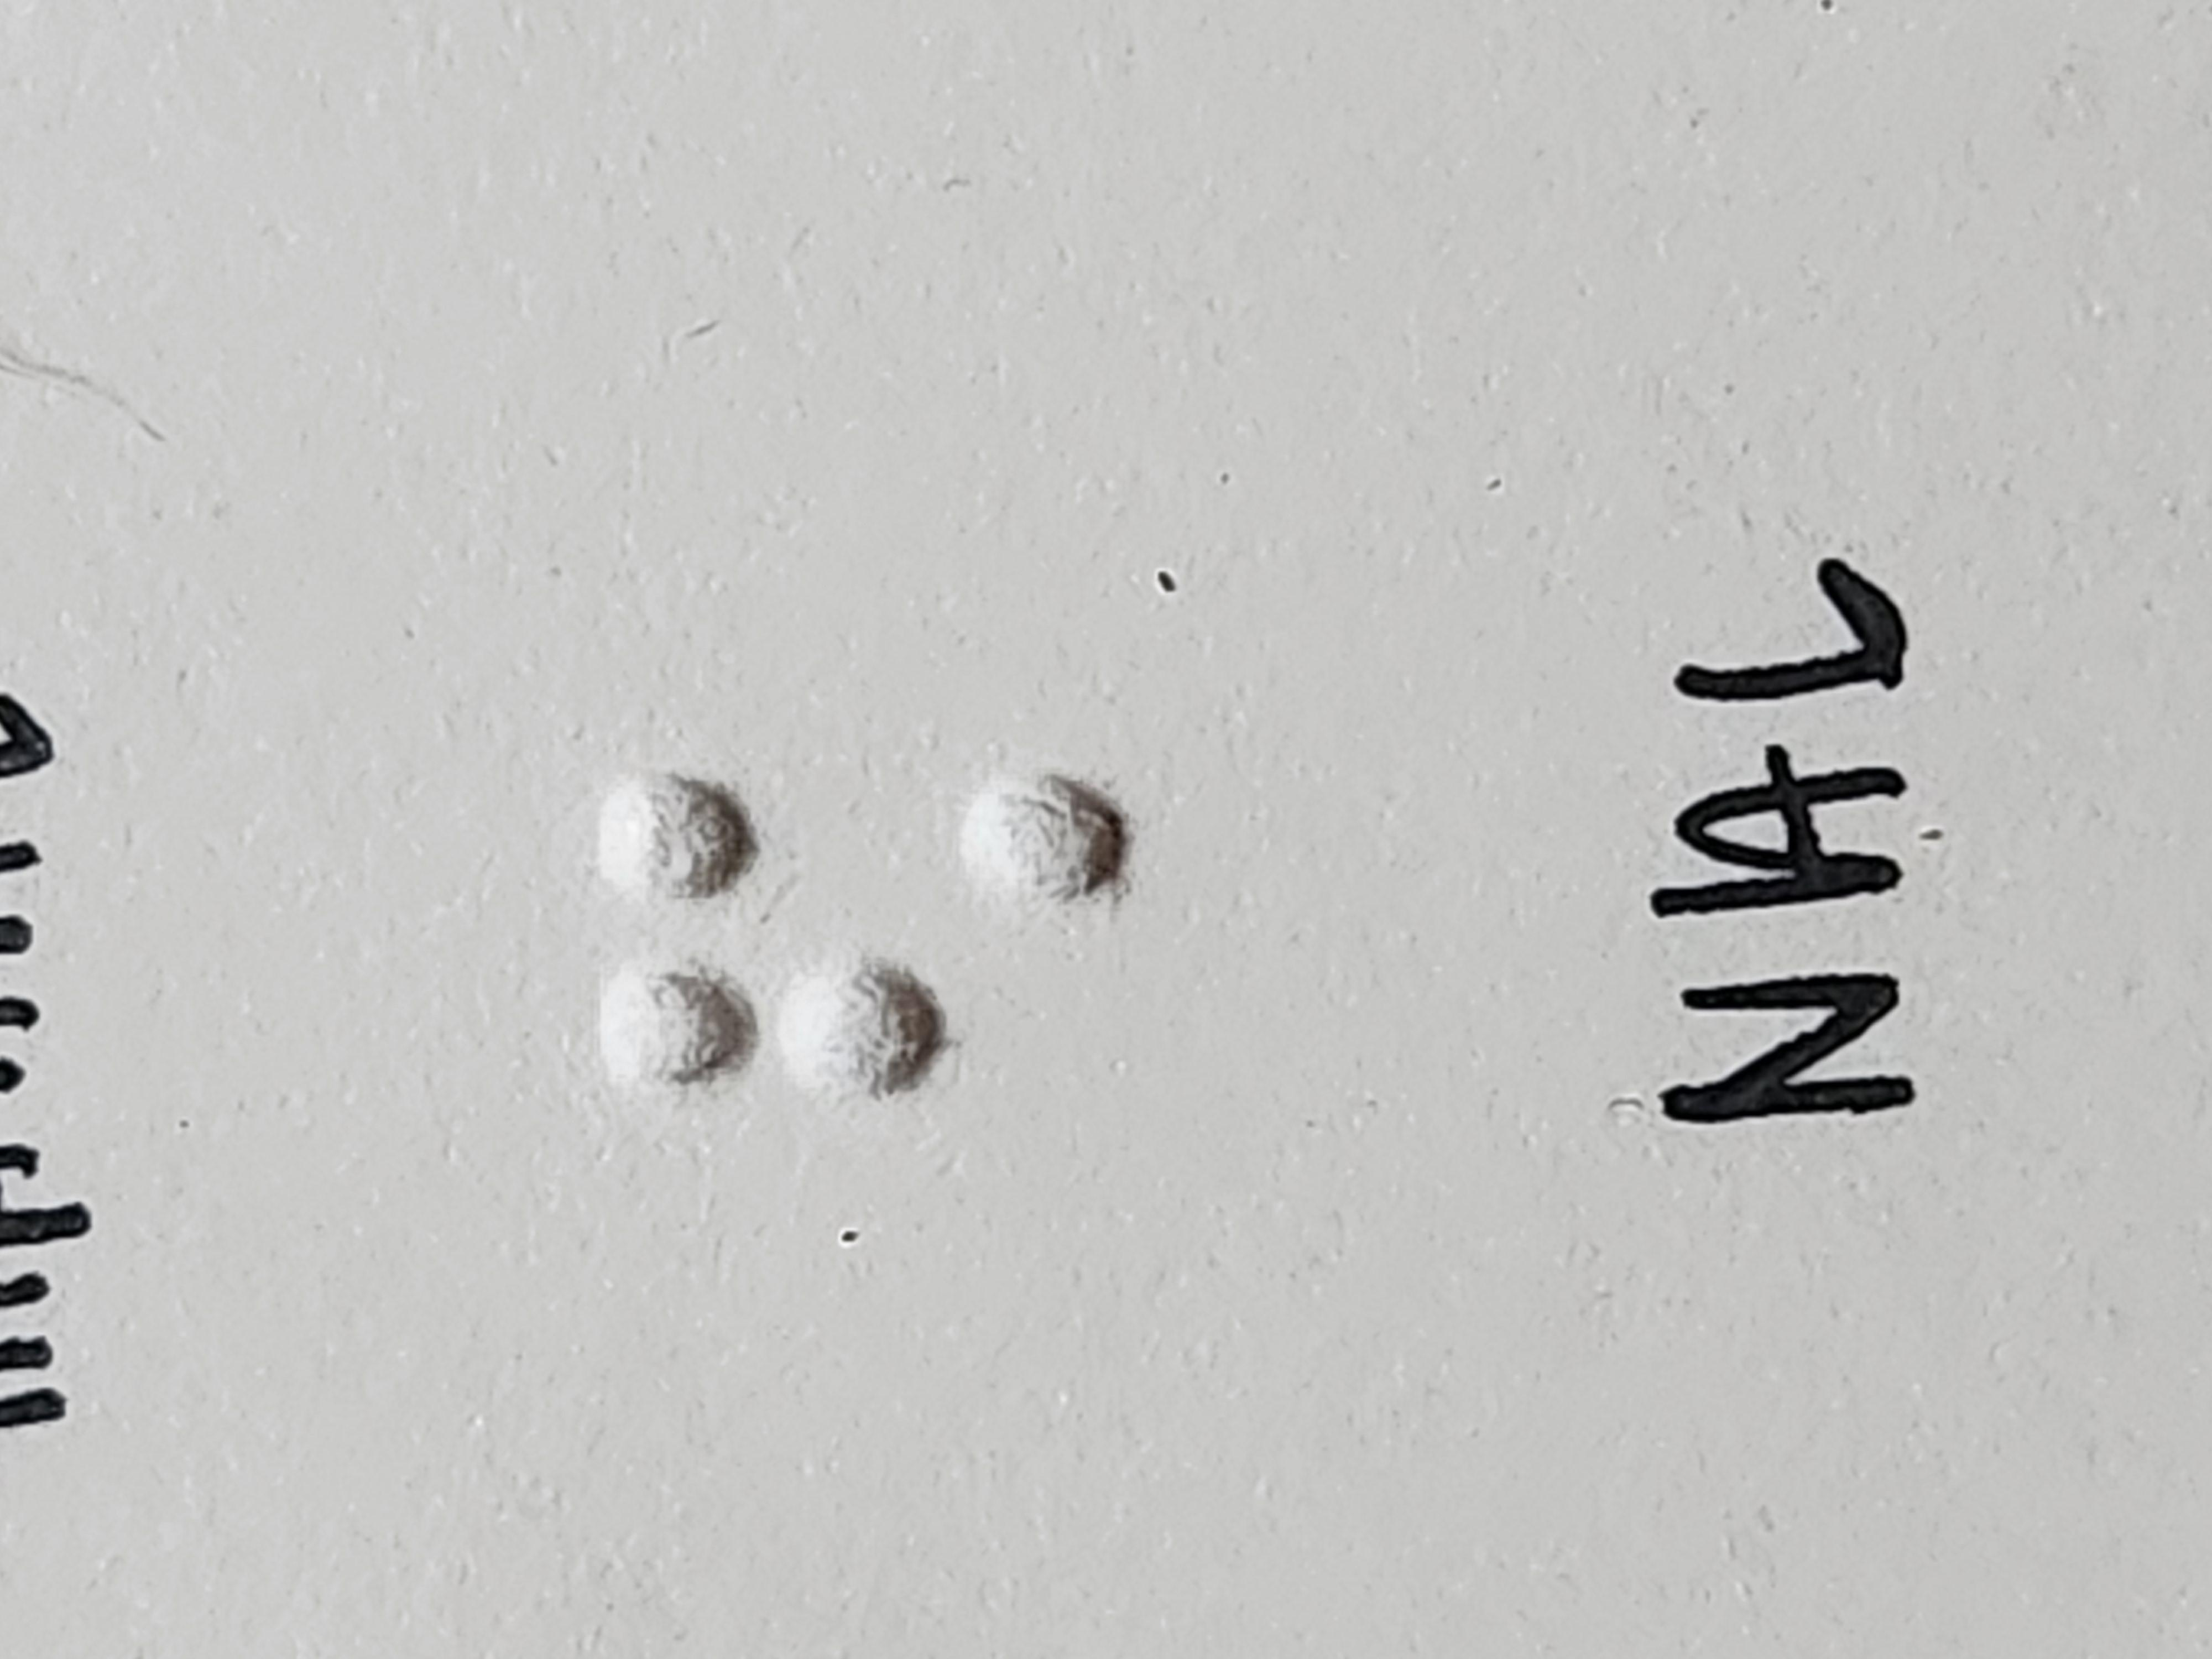one_cell_part_word_nag: (754, 444, 1181, 845)
